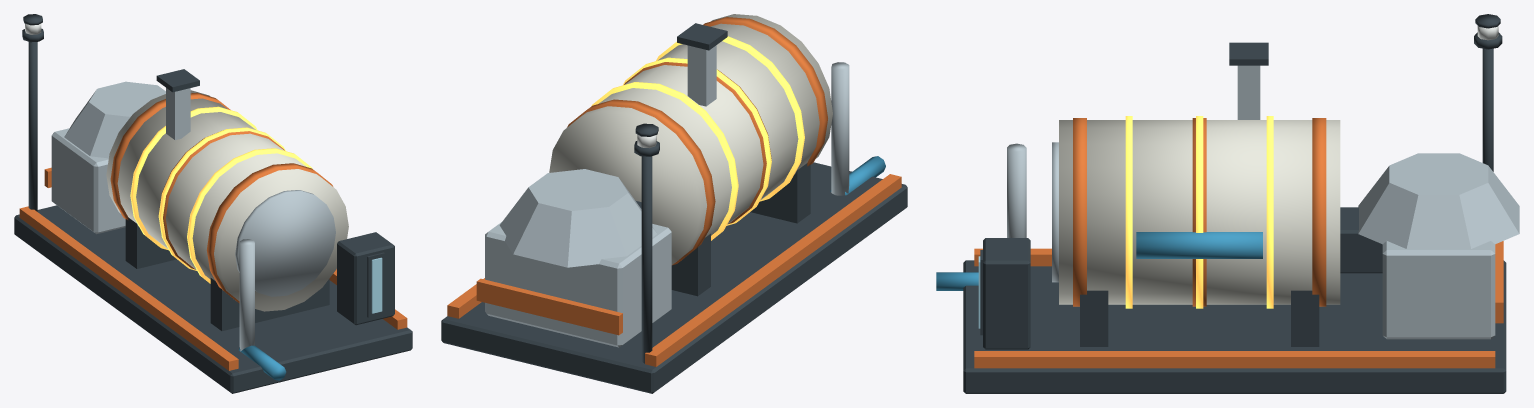
The model's file is melter.glb.
3 renders of one model, left to right at view 1: azimuth 30°, elevation 25°; view 2: azimuth 150°, elevation 25°; view 3: azimuth 270°, elevation 25°, orthographic. The views are drawn at different scales.
Parts seen in each view (by area): view 1: Melter, Heater, Lamp, Level; view 2: Melter, Heater, Lamp; view 3: Melter, Heater, Lamp.
Boxes of the visible parts, bbox=[...] form: Melter: bbox=[14, 69, 412, 393]; Heater: bbox=[130, 106, 312, 283]; Lamp: bbox=[22, 14, 43, 211]; Level: bbox=[371, 257, 382, 313]; Melter: bbox=[441, 14, 907, 393]; Heater: bbox=[591, 36, 804, 240]; Lamp: bbox=[634, 123, 659, 363]; Melter: bbox=[936, 42, 1519, 393]; Heater: bbox=[1125, 116, 1273, 308]; Lamp: bbox=[1474, 14, 1502, 171].
Bounding box in the file's own units: 1.86 × 2.14 × 4.14.
